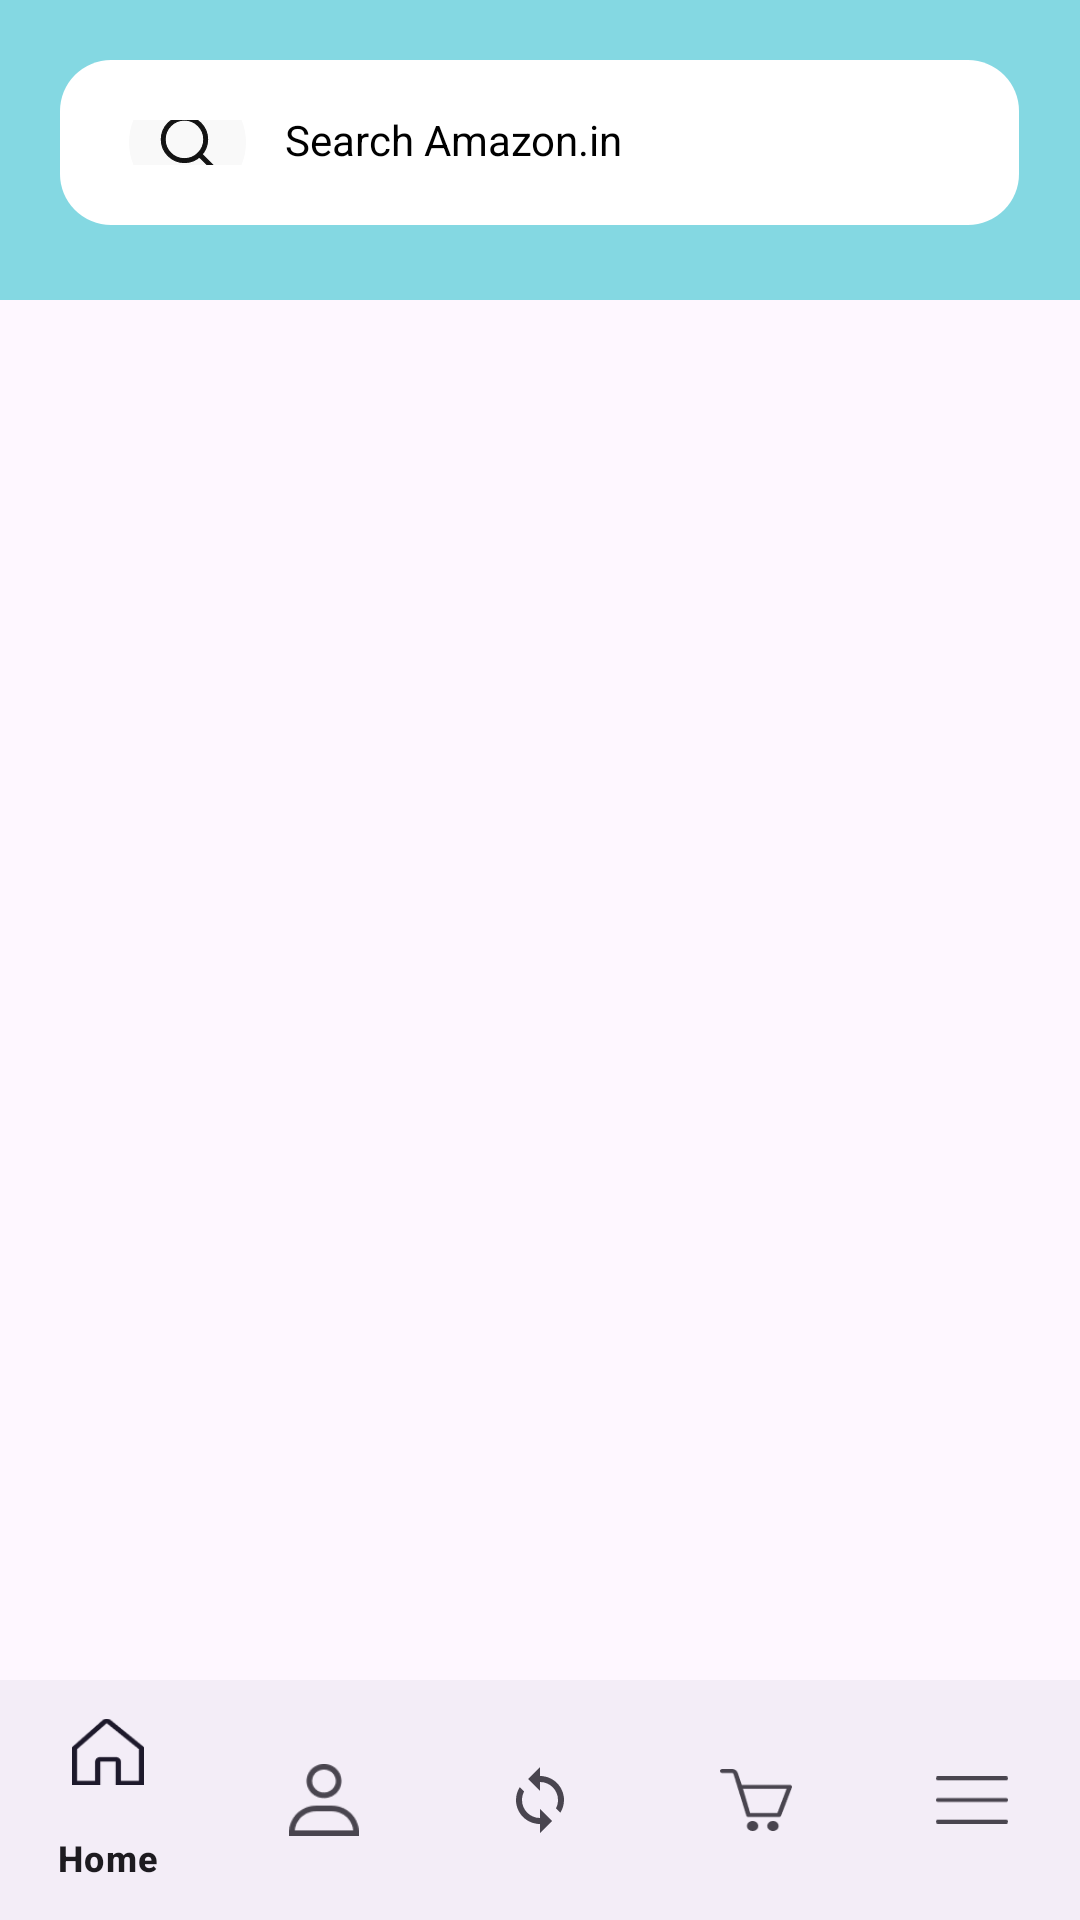

Where icons sit on this 1080x1920 app screen, as bbox(x1, y1, x2, y2):
searchround: bbox(160, 120, 214, 165)
